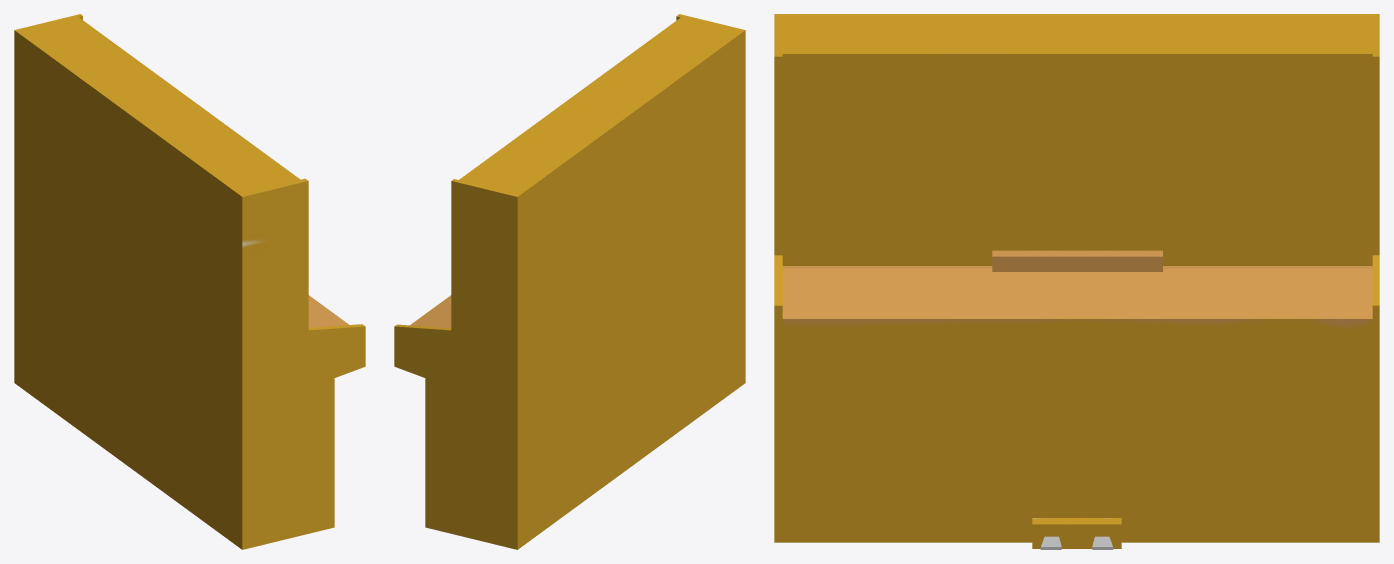
The model's file is piano.obj.
3 views of the same model, side by side, from view 1: azimuth 30°, elevation 25°; view 2: azimuth 150°, elevation 25°; view 3: azimuth 270°, elevation 25° (orthographic). The views are drawn at different scales.
Visible parts, largest first — view 1: piano_Cube.005; view 2: piano_Cube.005; view 3: piano_Cube.005.
Boxes of the visible parts, x1=… form: piano_Cube.005: x1=14, y1=14, x2=365, y2=549; piano_Cube.005: x1=394, y1=14, x2=745, y2=549; piano_Cube.005: x1=774, y1=14, x2=1379, y2=549.
Size of the model in its own units: 1.59 by 4.35 by 5.1.
